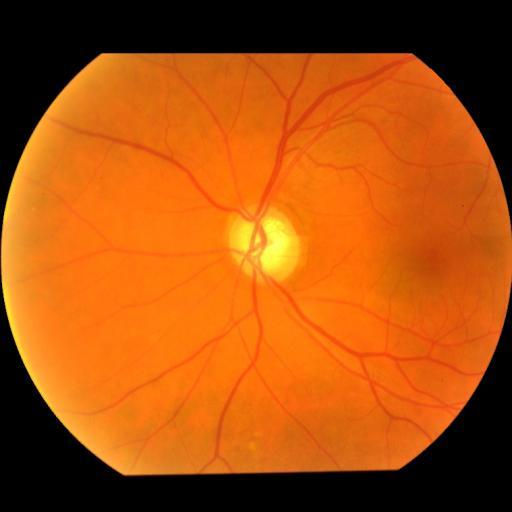Optic Cup: (241, 220, 290, 272)
Optic Disc: (228, 207, 300, 282)
